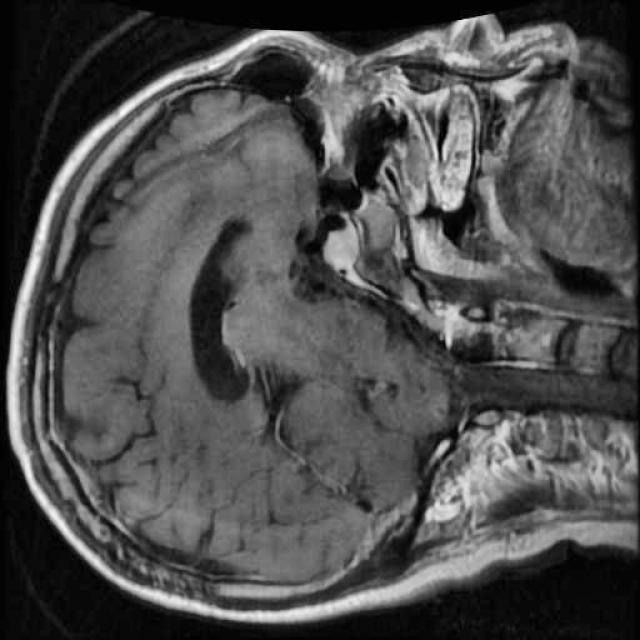Tumor: (318, 209, 365, 281)
